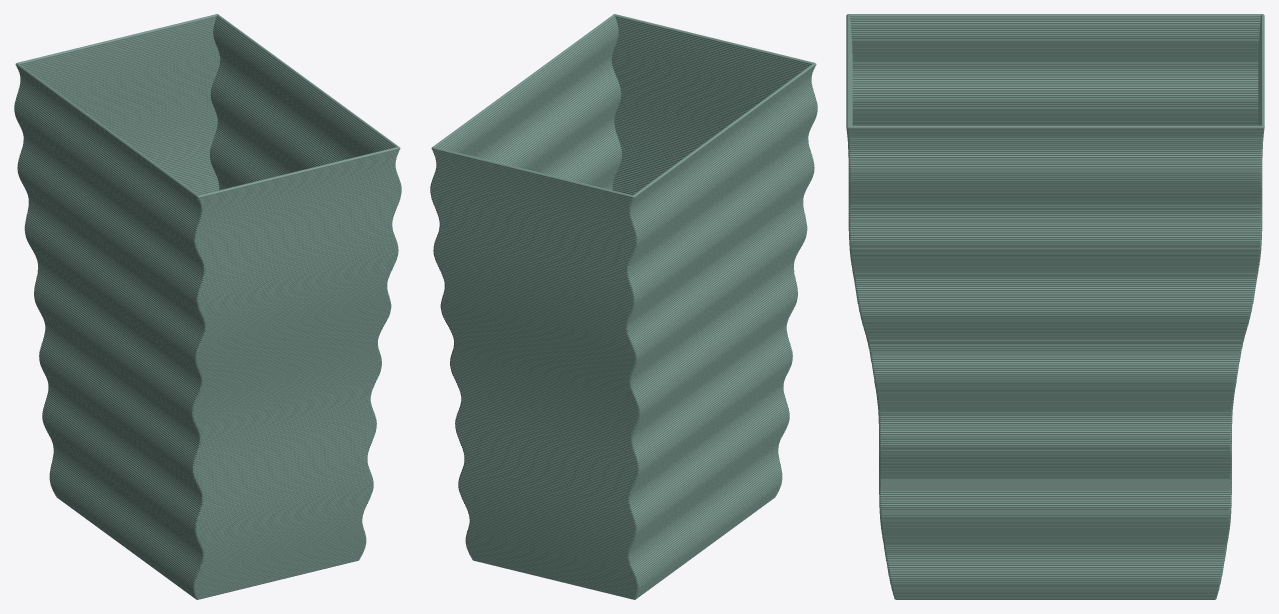
3 views of the same model, side by side, from view 1: azimuth 30°, elevation 25°; view 2: azimuth 150°, elevation 25°; view 3: azimuth 270°, elevation 25° (orthographic). The views are drawn at different scales.
Size of the model in its own units: 0.0722 by 0.1407 by 0.11.
